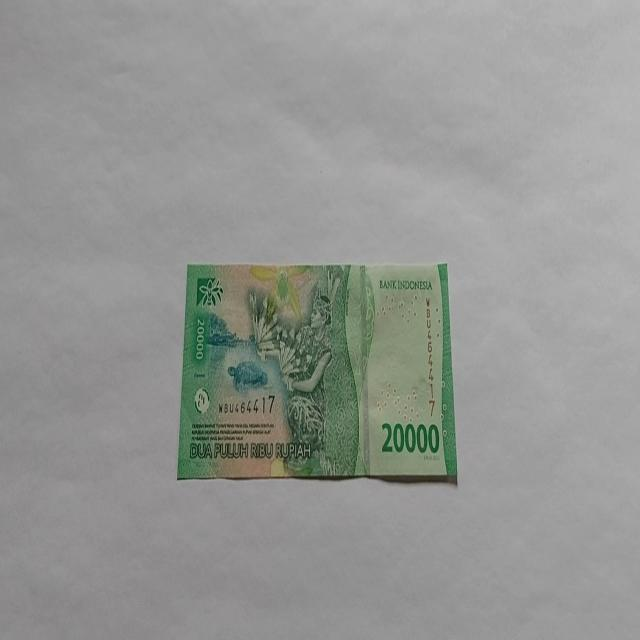dua puluh ribu rupiah: (176, 260, 458, 484), (248, 270, 342, 472)
